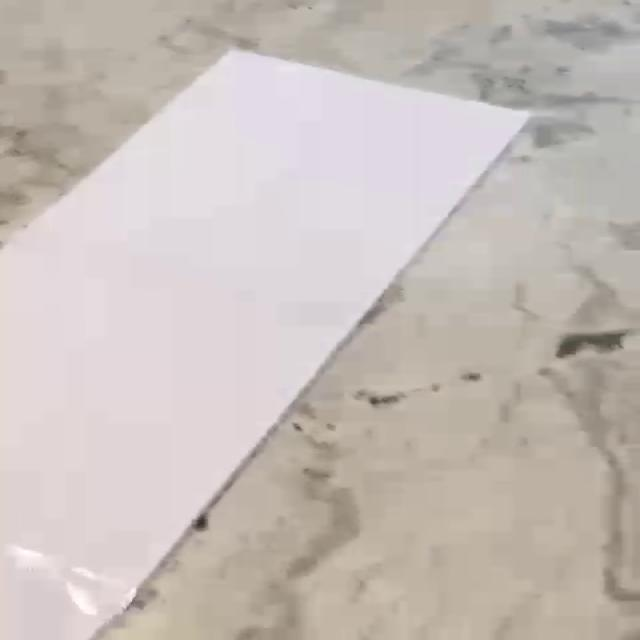road: (1, 51, 527, 640)
